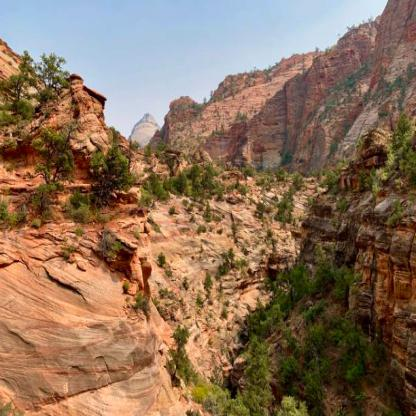Sedimentary_Sandstone: (1, 294, 153, 415), (110, 205, 233, 273), (71, 105, 113, 168)
